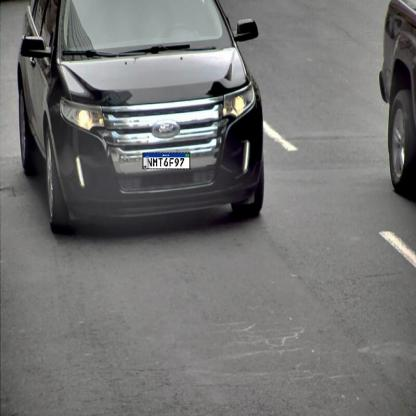PlacaM: (142, 153, 191, 169)
